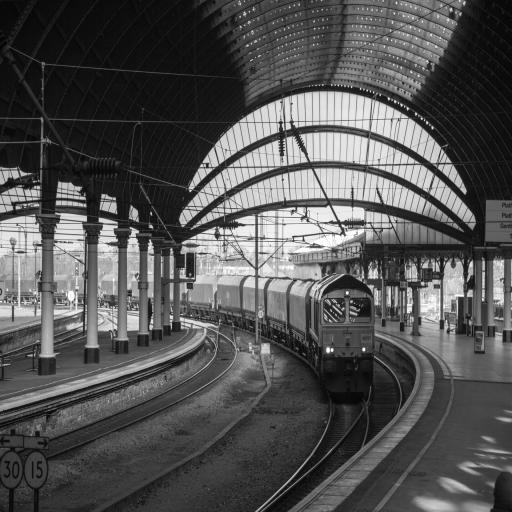platform_edge: (285, 353, 450, 512)
